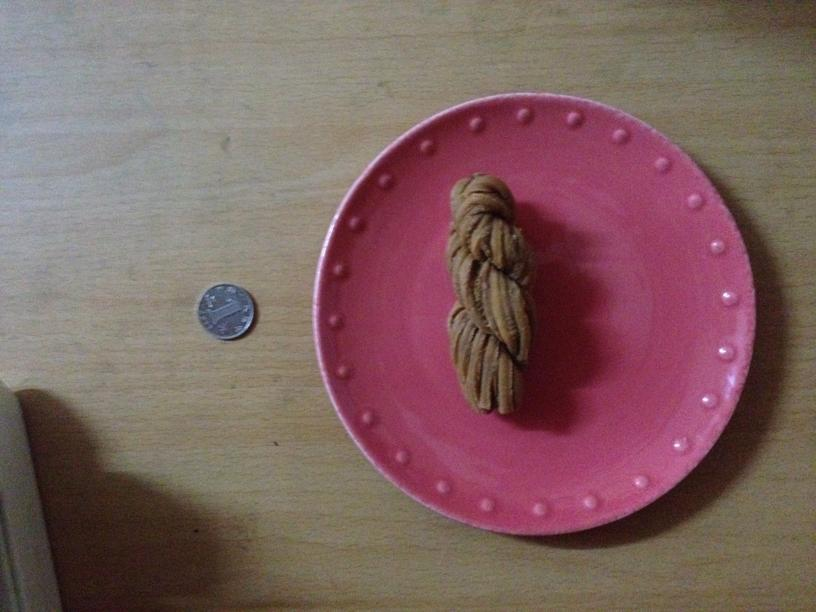coin: (193, 281, 255, 342)
fired_dough_twist: (441, 171, 540, 413)
